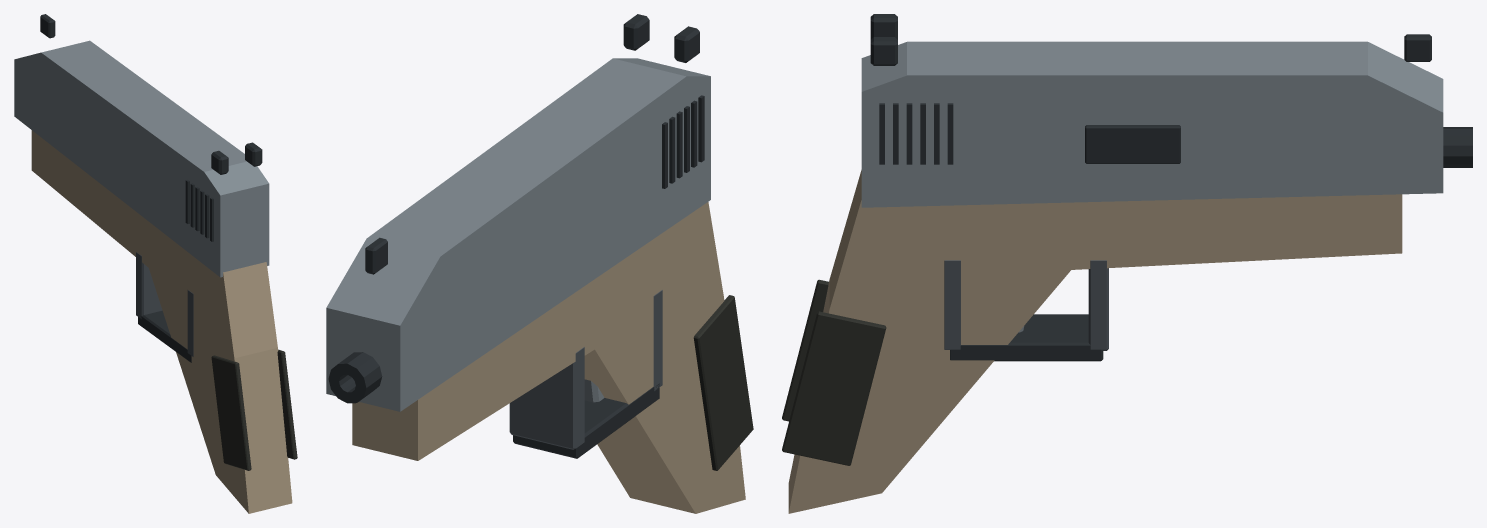
Rendered from weapon_ember45.glb.
The picture shows the model from 3 angles, left to right: view 1: azimuth 30°, elevation 25°; view 2: azimuth 150°, elevation 25°; view 3: azimuth 270°, elevation 25°; orthographic projection. The views are drawn at different scales.
Visible parts, largest first — view 1: Geometry_weapon_ember45; view 2: Geometry_weapon_ember45; view 3: Geometry_weapon_ember45.
Part boxes in pixels (<box>): Geometry_weapon_ember45: <box>14,14,297,513</box>; Geometry_weapon_ember45: <box>326,14,753,513</box>; Geometry_weapon_ember45: <box>782,14,1472,513</box>.
Bounding box in the file's own units: 0.0387 × 0.228 × 0.3028.
